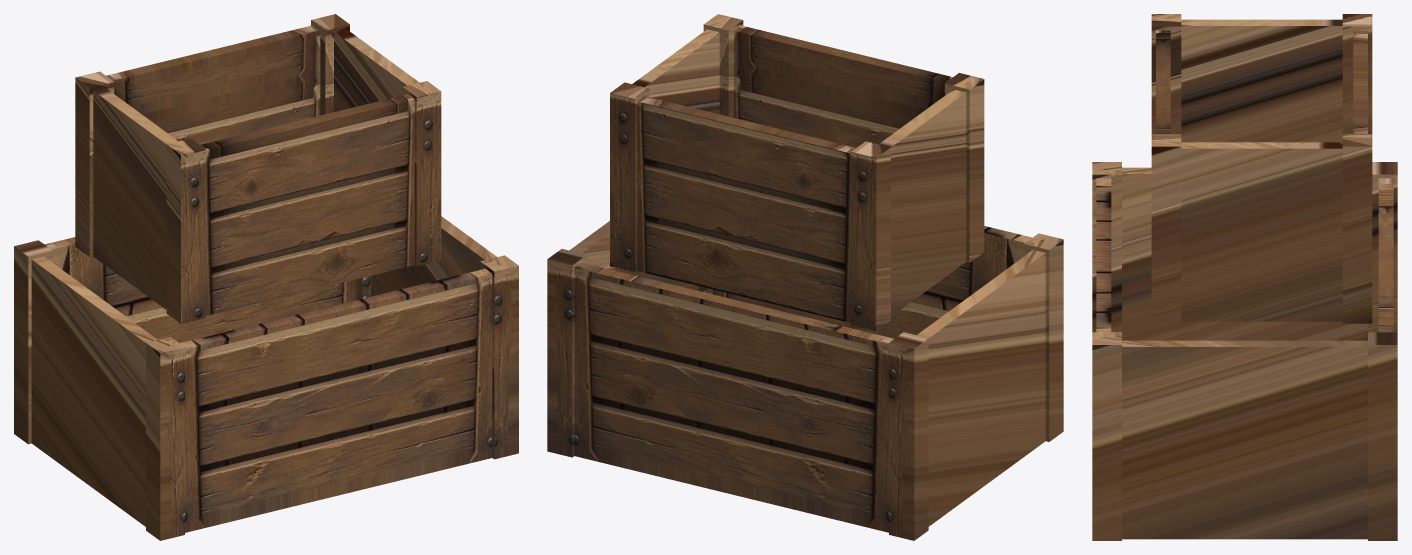
File: open-crates.glb
The picture shows the model from 3 angles, left to right: view 1: azimuth 30°, elevation 25°; view 2: azimuth 150°, elevation 25°; view 3: azimuth 270°, elevation 25°; orthographic projection. The views are drawn at different scales.
Visible parts, largest first — view 1: open-crates; view 2: open-crates; view 3: open-crates.
Boxes of the visible parts, x1,y1,x2,y2 form: open-crates: (14,14,518,540); open-crates: (547,14,1063,540); open-crates: (1092,14,1397,540).
Size of the model in its own units: 1.02 by 0.96 by 0.72.
1 material, 1 textured.
